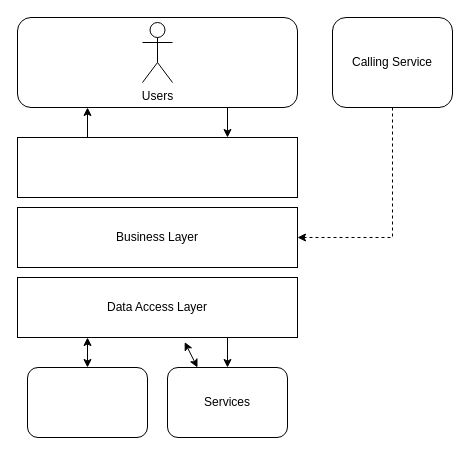
This 470x455 diagram has some shape labels left out. The centre of each missing label's shape, as x and y in pixels:
Data Sources: [87,402]
GUI Layer: [157,167]
